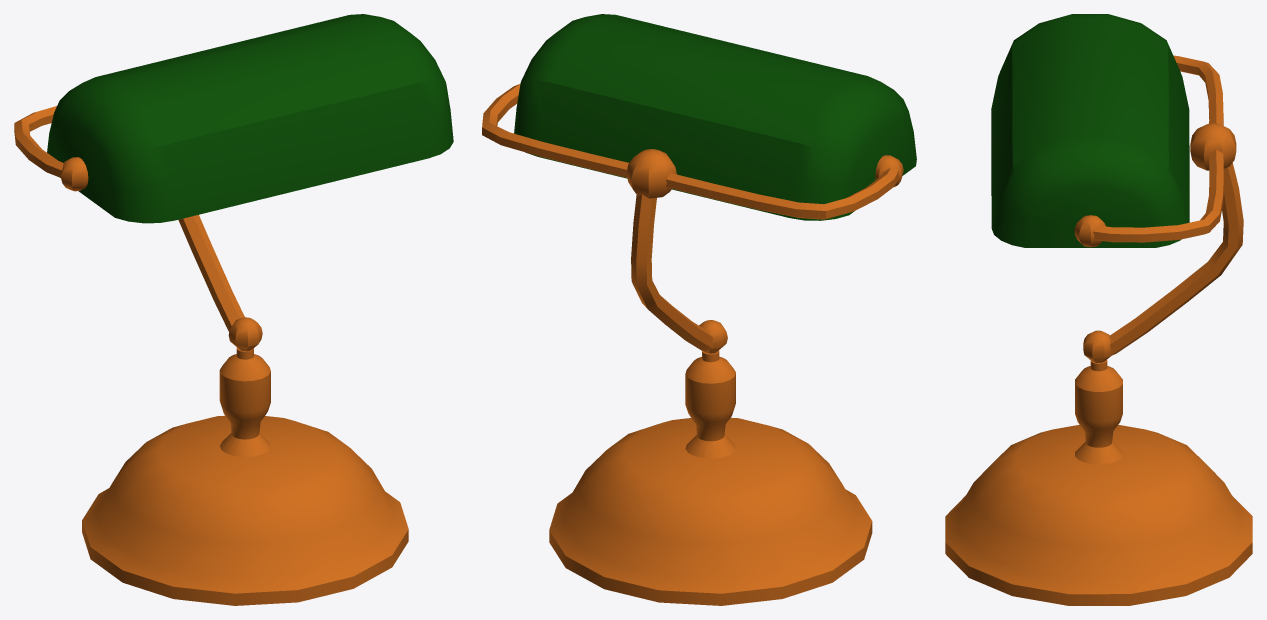
3 views of the same model, side by side, from view 1: azimuth 30°, elevation 25°; view 2: azimuth 150°, elevation 25°; view 3: azimuth 270°, elevation 25° (orthographic). The views are drawn at different scales.
Parts seen in each view (by area): view 1: lamp_L.002; view 2: lamp_L.002; view 3: lamp_L.002.
Boxes of the visible parts, left/top/right/bottom form: lamp_L.002: left=14, top=14, right=453, bottom=605; lamp_L.002: left=482, top=14, right=916, bottom=605; lamp_L.002: left=945, top=14, right=1252, bottom=605.
Size of the model in its own units: 65.11 by 46.98 by 78.15.
